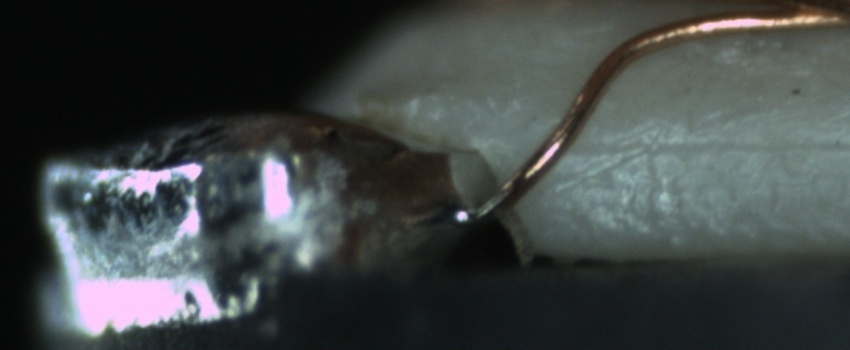DL: (569, 107, 847, 183)
TS: (462, 182, 505, 226)
